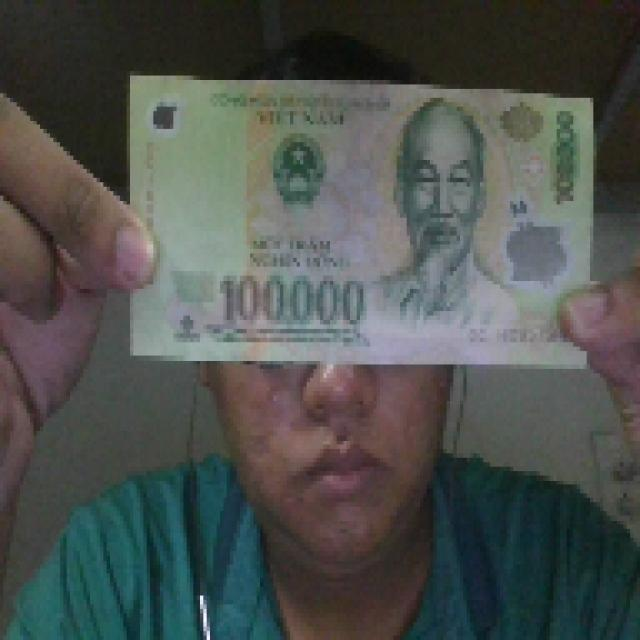100 000 VND: (120, 67, 600, 373)
